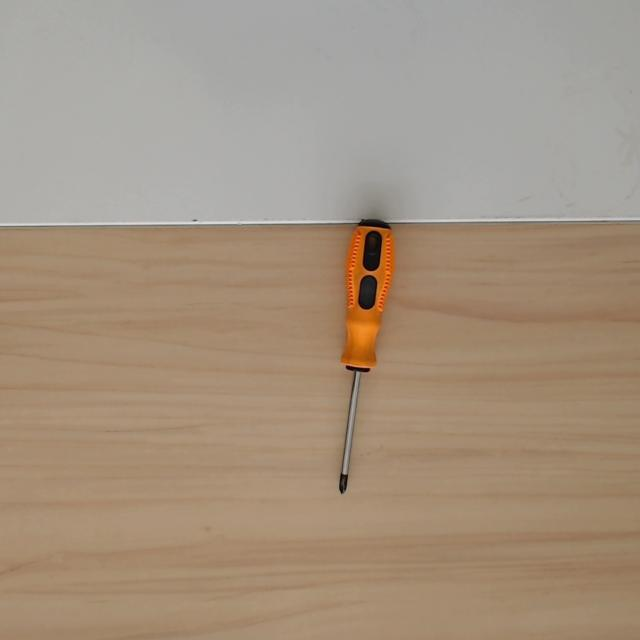Obeng-Besar: (309, 216, 402, 495)
